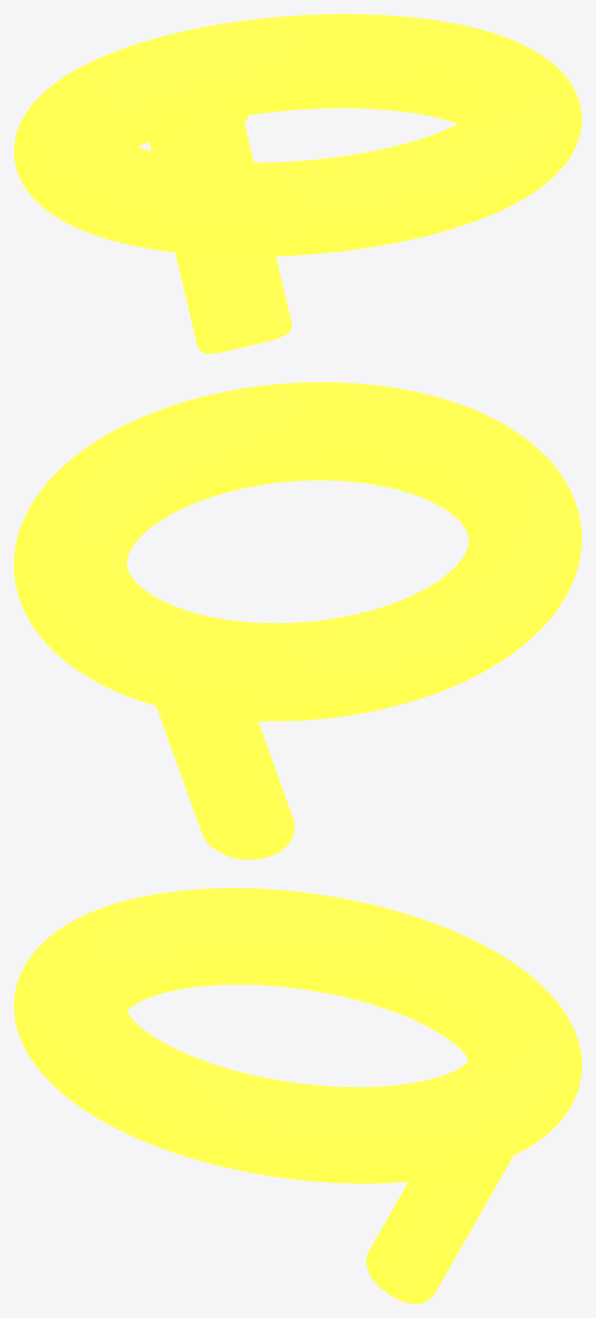
The model's file is halo.glb.
The picture shows the model from 3 angles, top to bottom: view 1: azimuth 30°, elevation 25°; view 2: azimuth 150°, elevation 25°; view 3: azimuth 270°, elevation 25°; orthographic projection.
Visible parts, largest first — view 1: TitanCraft Download (1); view 2: TitanCraft Download (1); view 3: TitanCraft Download (1).
Part boxes in pixels (x1=…): TitanCraft Download (1): x1=14, y1=14, x2=581, y2=353; TitanCraft Download (1): x1=14, y1=382, x2=581, y2=859; TitanCraft Download (1): x1=14, y1=888, x2=581, y2=1303.
Size of the model in its own units: 4.53 by 2.88 by 4.51.
